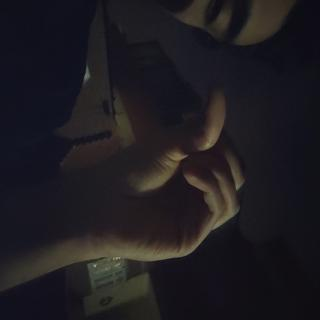WAW: (63, 86, 204, 320)
